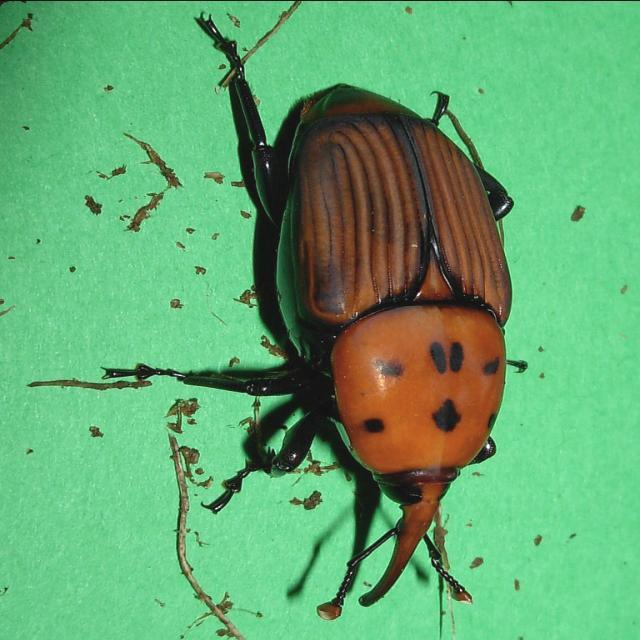Red-palm-weevil: (212, 78, 528, 622)
